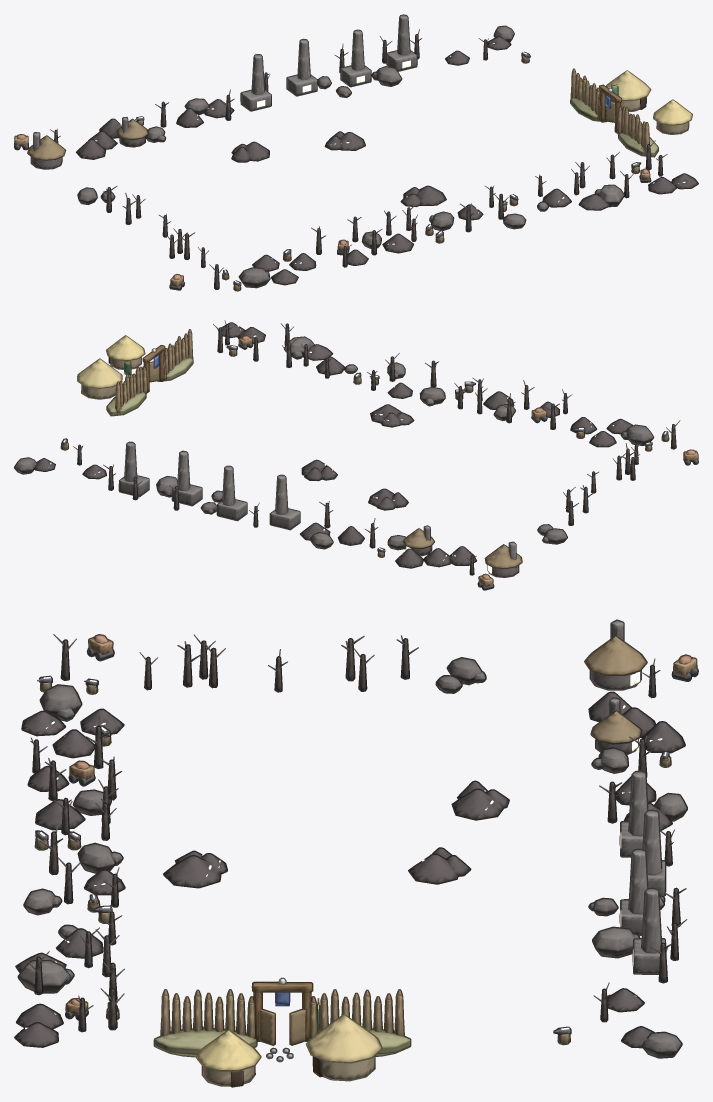
The model's file is ember_forge.glb.
The picture shows the model from 3 angles, top to bottom: view 1: azimuth 30°, elevation 25°; view 2: azimuth 150°, elevation 25°; view 3: azimuth 270°, elevation 25°; orthographic projection. The views are drawn at different scales.
Parts seen in each view (by area): view 1: Baked_matte, Baked_satin, Baked_matte_Outline, Baked_satin_Outline, Baked_metal; view 2: Baked_matte, Baked_matte_Outline, Baked_satin, Baked_satin_Outline, Baked_metal; view 3: Baked_matte, Baked_matte_Outline, Baked_satin, Baked_satin_Outline, Baked_metal, Baked_metal_Outline.
Boxes of the visible parts, x1=… form: Baked_matte: x1=15, y1=15, x2=692, y2=290; Baked_satin: x1=76, y1=37, x2=697, y2=284; Baked_matte_Outline: x1=14, y1=14, x2=692, y2=291; Baked_satin_Outline: x1=76, y1=36, x2=698, y2=285; Baked_metal: x1=15, y1=53, x2=650, y2=289; Baked_matte: x1=14, y1=320, x2=697, y2=586; Baked_matte_Outline: x1=14, y1=323, x2=698, y2=585; Baked_satin: x1=34, y1=323, x2=632, y2=567; Baked_satin_Outline: x1=34, y1=322, x2=632, y2=568; Baked_metal: x1=62, y1=343, x2=697, y2=589; Baked_matte: x1=19, y1=620, x2=696, y2=1086; Baked_matte_Outline: x1=17, y1=619, x2=697, y2=1087; Baked_satin: x1=15, y1=692, x2=684, y2=1046; Baked_satin_Outline: x1=14, y1=691, x2=685, y2=1048; Baked_metal: x1=36, y1=648, x2=697, y2=1034; Baked_metal_Outline: x1=35, y1=647, x2=698, y2=1035.
Size of the model in its own units: 40.45 by 3.85 by 26.7.
